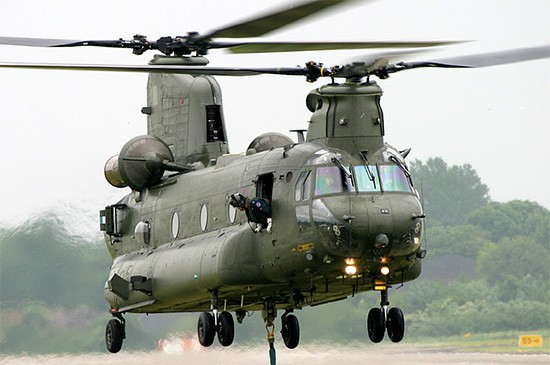chinook: (39, 12, 509, 349)
